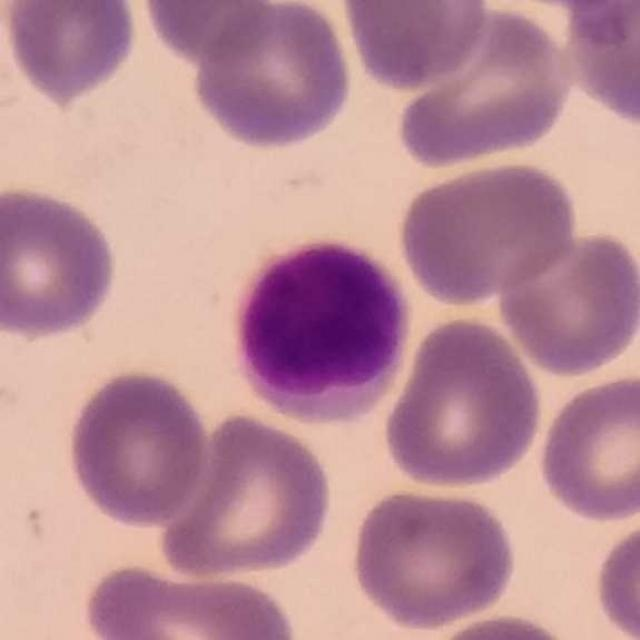Lymphocyte: (225, 230, 417, 427)
RBC: (152, 408, 338, 581), (388, 0, 576, 171), (379, 313, 546, 492), (393, 157, 582, 306), (346, 483, 519, 631), (187, 0, 355, 152), (64, 365, 212, 531), (493, 225, 640, 378), (0, 181, 122, 343), (79, 560, 304, 640), (533, 371, 640, 525), (1, 0, 141, 106), (338, 0, 490, 93), (557, 1, 640, 130), (136, 0, 280, 70), (590, 513, 640, 640), (423, 610, 588, 640)
